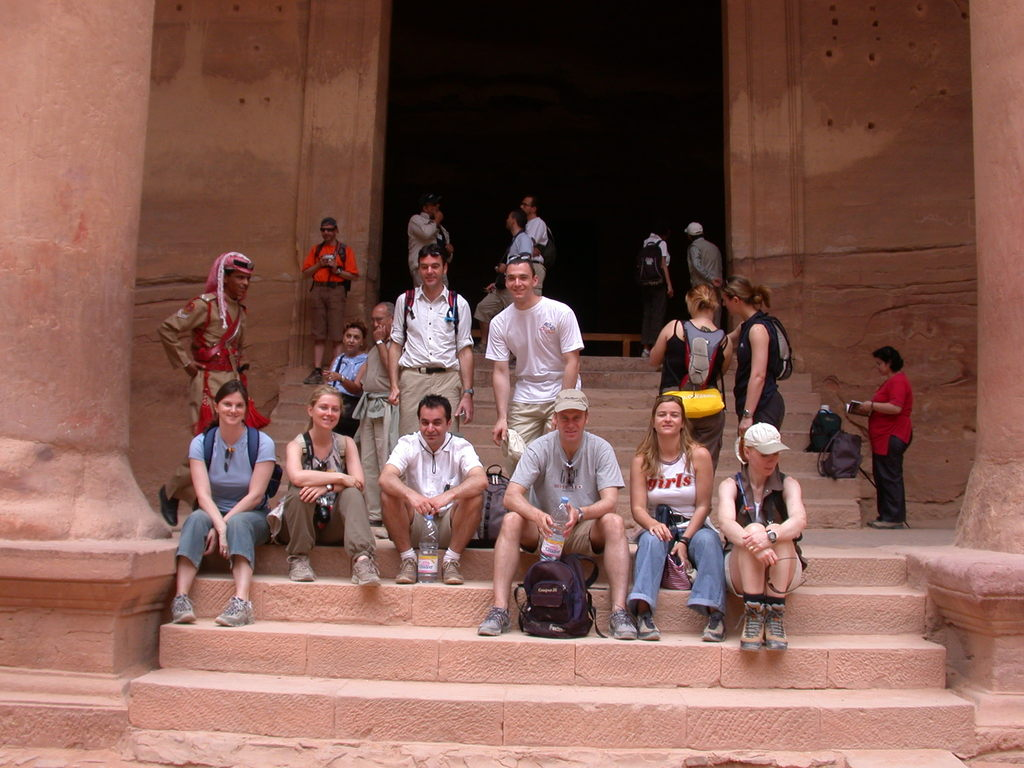Footwear: (738, 599, 768, 657), (216, 590, 255, 624), (764, 602, 789, 648), (609, 607, 639, 644), (350, 556, 381, 589), (477, 609, 514, 636), (159, 484, 181, 527), (287, 553, 317, 584), (702, 612, 728, 645), (440, 557, 465, 587), (173, 593, 196, 625), (641, 611, 661, 640), (397, 558, 417, 584), (868, 521, 906, 531)
